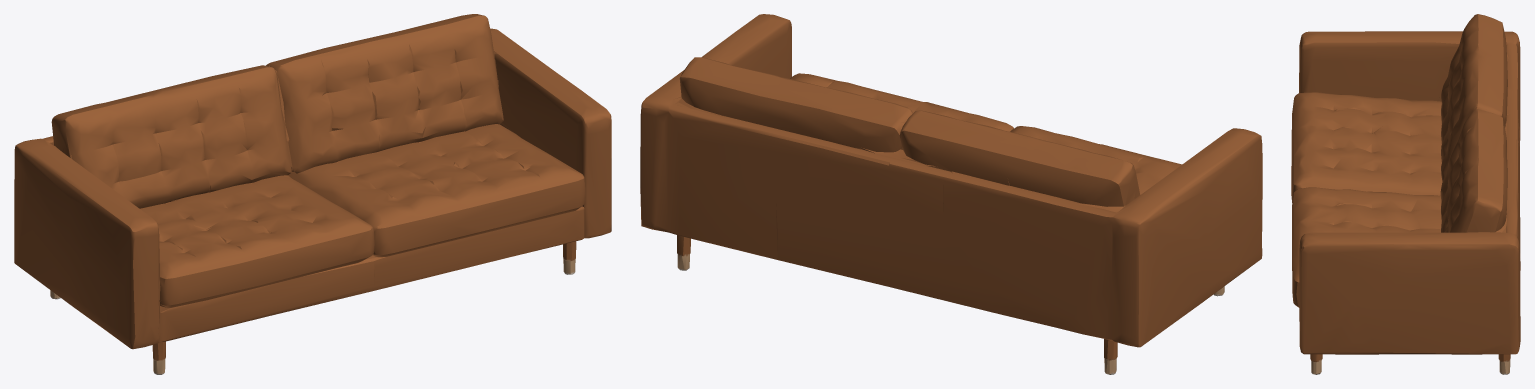
Rendered from landskrona_sofa_3_osobowa_49270302.glb.
3 renders of one model, left to right at view 1: azimuth 30°, elevation 25°; view 2: azimuth 150°, elevation 25°; view 3: azimuth 270°, elevation 25°, orthographic. The views are drawn at different scales.
Visible parts, largest first — view 1: landskrona_sofa_3_osobowa_49270302; view 2: landskrona_sofa_3_osobowa_49270302; view 3: landskrona_sofa_3_osobowa_49270302.
Boxes of the visible parts, left/top/right/bottom form: landskrona_sofa_3_osobowa_49270302: left=14, top=14, right=611, bottom=374; landskrona_sofa_3_osobowa_49270302: left=640, top=14, right=1262, bottom=374; landskrona_sofa_3_osobowa_49270302: left=1291, top=14, right=1520, bottom=374.
Size of the model in its own units: 2.06 by 0.7827 by 0.9234.
Materials: 1 (1 with a texture image).
